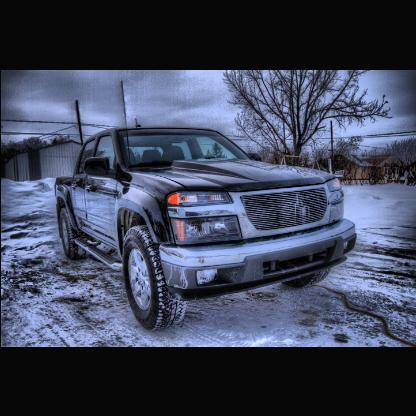GMC Canyon Extended Cab 2012: (52, 117, 363, 335)
